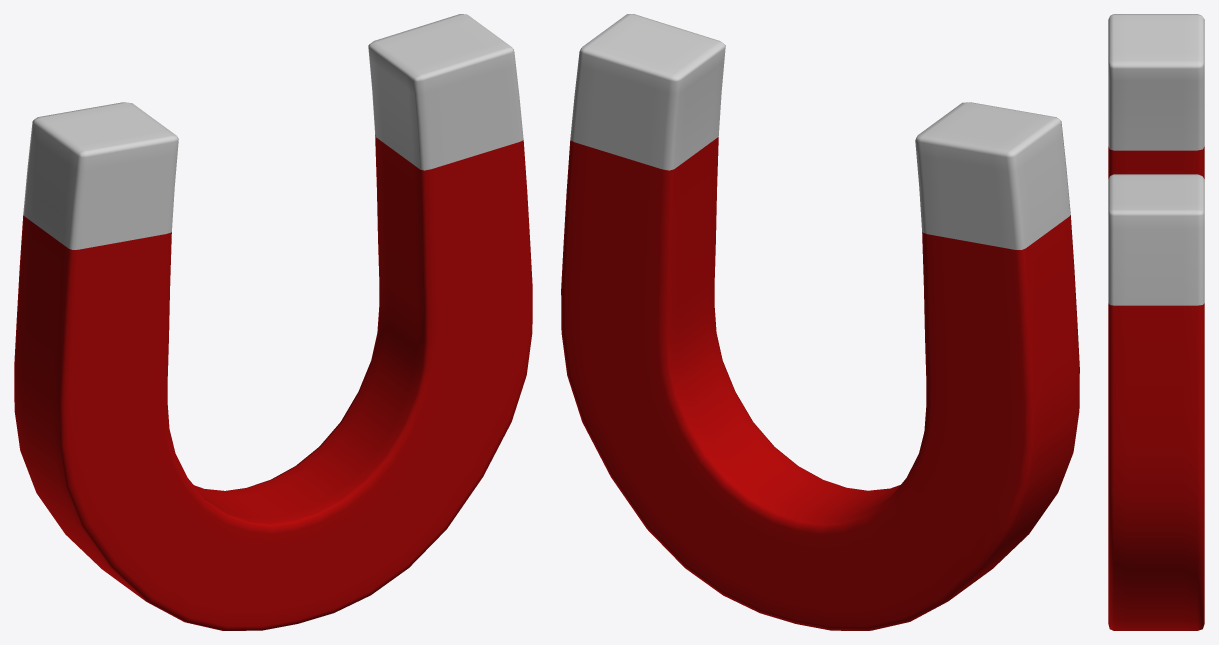
Rendered from magnet.fbx.
3 renders of one model, left to right at view 1: azimuth 30°, elevation 25°; view 2: azimuth 150°, elevation 25°; view 3: azimuth 270°, elevation 25°, orthographic. The views are drawn at different scales.
Visible parts, largest first — view 1: polySurface1; view 2: polySurface1; view 3: polySurface1.
Part boxes in pixels (bbox=[...]): polySurface1: bbox=[14, 14, 532, 630]; polySurface1: bbox=[561, 14, 1079, 630]; polySurface1: bbox=[1108, 14, 1204, 630].
Size of the model in its own units: 7.94 by 8.42 by 1.49.
